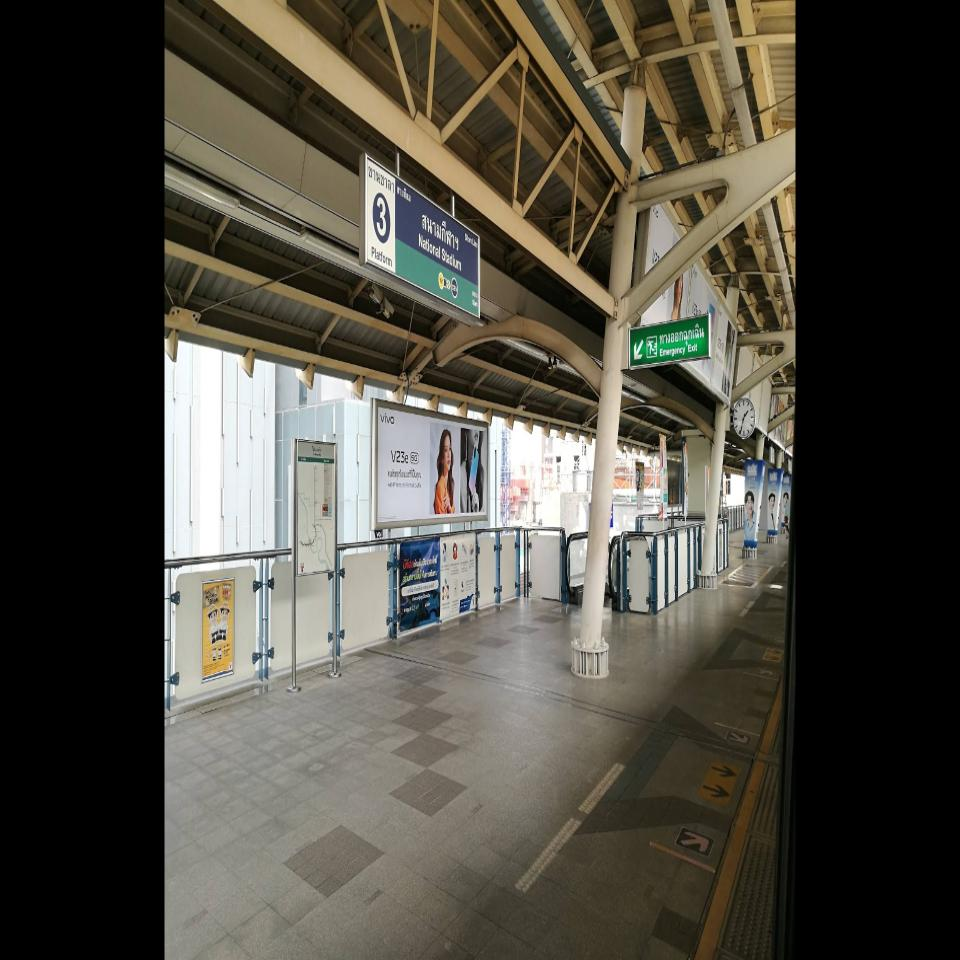signage: (419, 191, 462, 310)
